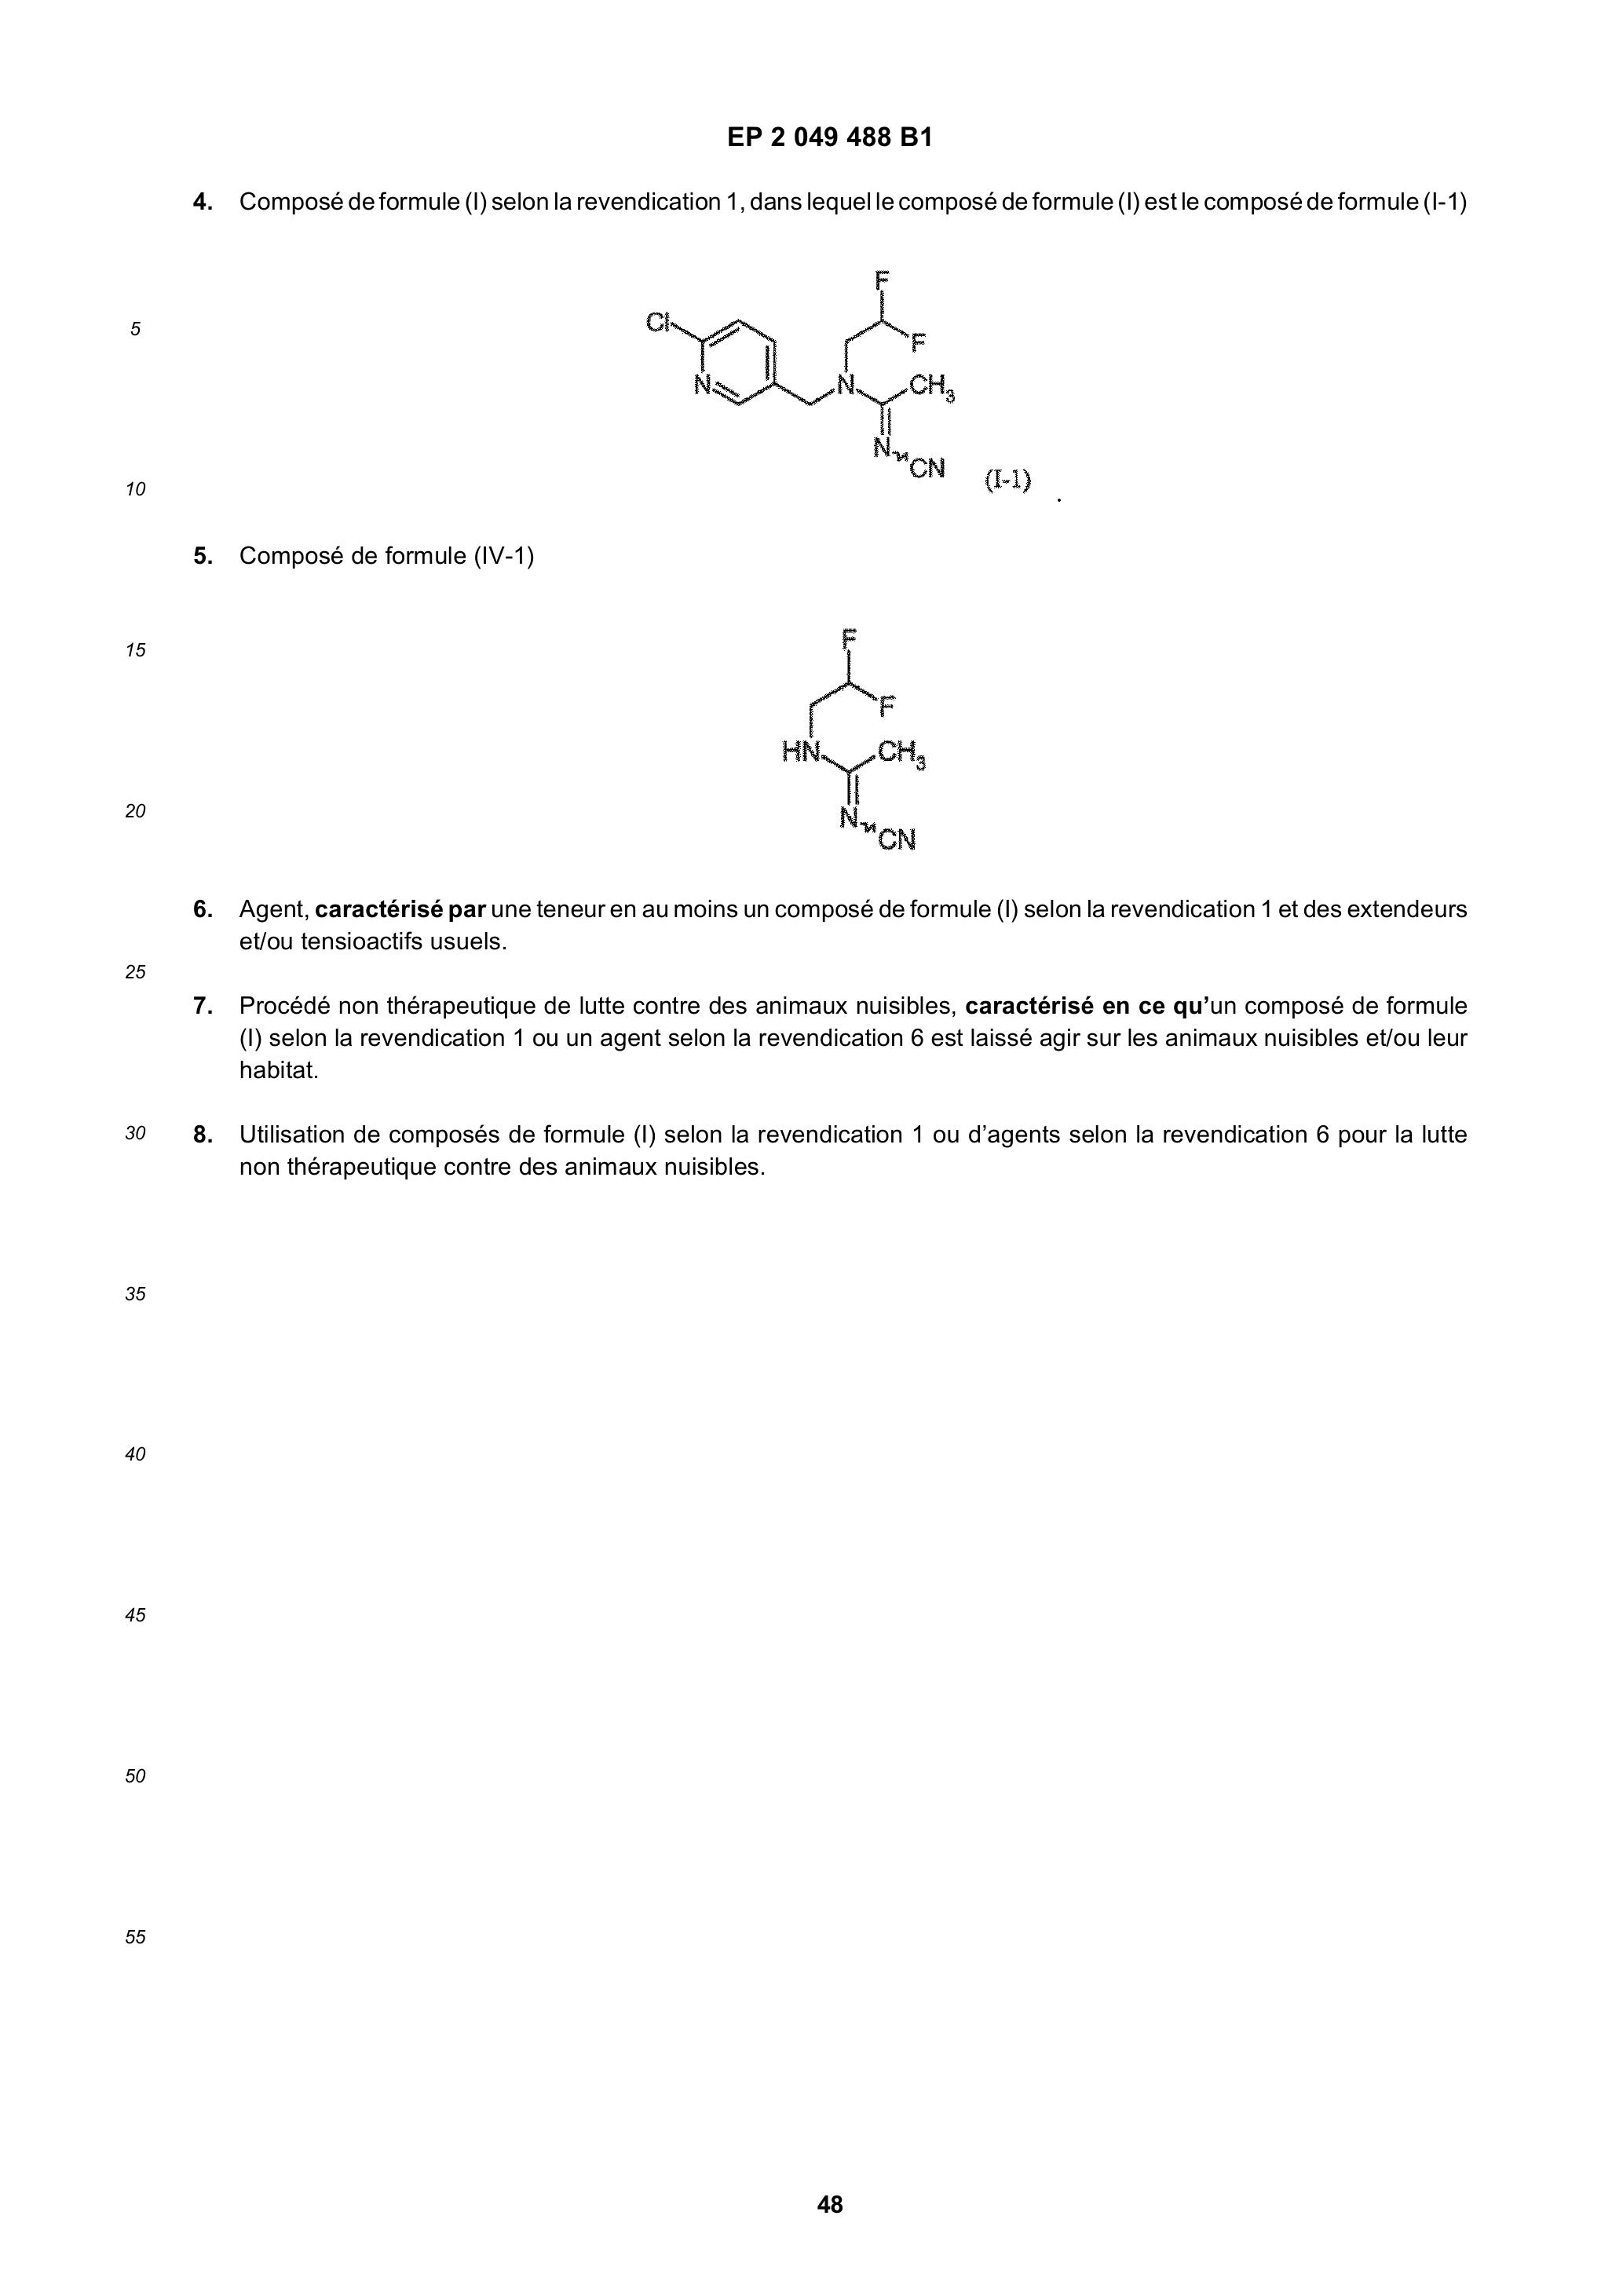relevant-structures: (613, 255, 966, 494), (739, 583, 943, 873)
